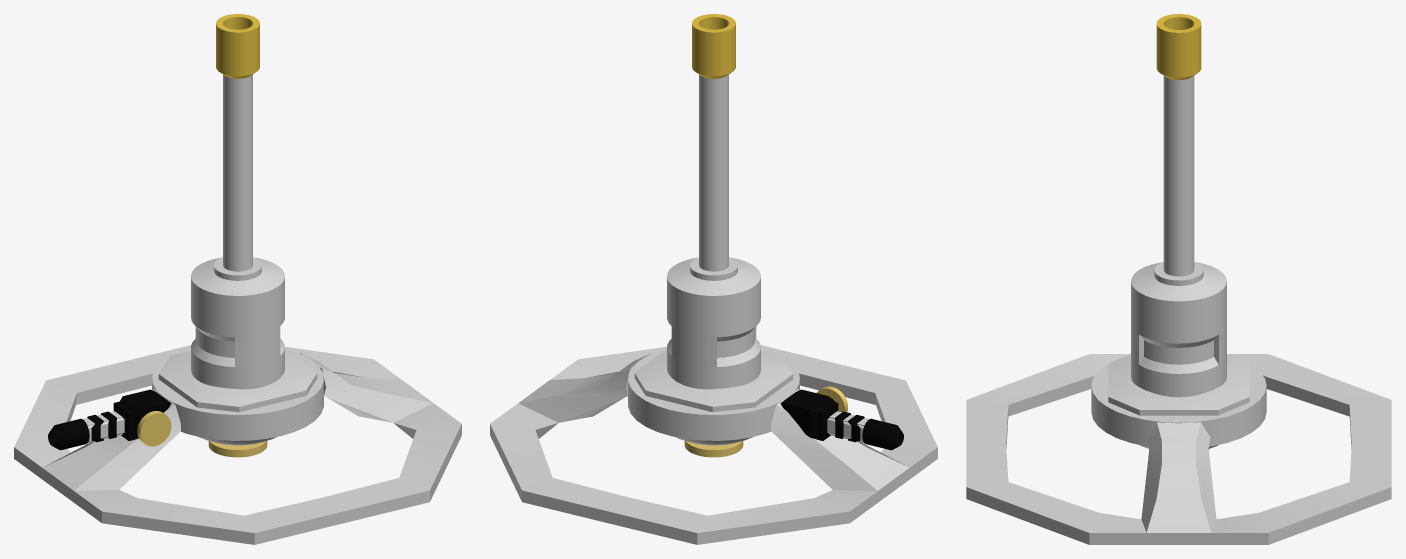
Rendered from BunsenBurner.fbx.
3 renders of one model, left to right at view 1: azimuth 30°, elevation 25°; view 2: azimuth 150°, elevation 25°; view 3: azimuth 270°, elevation 25°, orthographic.
Parts seen in each view (by area): view 1: Cube.016, Cylinder.003, Cylinder.006, Cube.013, Cube.014, Cube.015, Cylinder.002, Cylinder.005, Cylinder.001; view 2: Cube.016, Cylinder.003, Cylinder.006, Cube.013, Cube.014, Cube.015, Cylinder.002, Cylinder.001; view 3: Cube.016, Cylinder.003, Cylinder.006, Cube.013.
Part boxes in pixels (<box>): Cube.016: <box>14,345,461,544</box>; Cylinder.003: <box>191,14,284,389</box>; Cylinder.006: <box>152,348,323,445</box>; Cube.013: <box>158,349,317,412</box>; Cube.014: <box>113,389,171,440</box>; Cube.015: <box>82,409,126,442</box>; Cylinder.002: <box>48,418,89,450</box>; Cylinder.005: <box>137,411,171,446</box>; Cylinder.001: <box>208,441,267,457</box>; Cube.016: <box>490,345,937,544</box>; Cylinder.003: <box>667,14,760,389</box>; Cylinder.006: <box>628,348,799,445</box>; Cube.013: <box>634,349,793,412</box>; Cube.014: <box>780,389,838,440</box>; Cube.015: <box>825,409,869,442</box>; Cylinder.002: <box>862,418,903,450</box>; Cylinder.001: <box>684,441,743,457</box>; Cube.016: <box>966,354,1391,544</box>; Cylinder.003: <box>1131,14,1226,397</box>; Cylinder.006: <box>1091,359,1266,448</box>; Cube.013: <box>1108,354,1249,415</box>.
Size of the model in its own units: 203 by 224 by 200.
